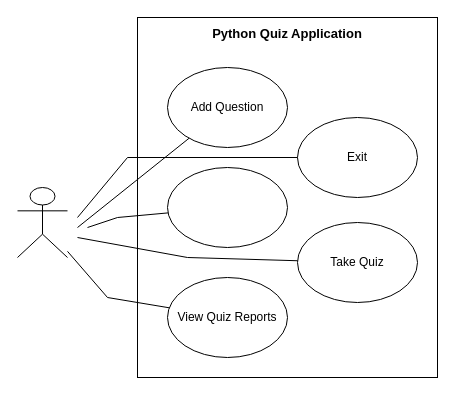
Image size: 455x395. Some labels were removed from this diagram. Here are the shapes that lost their labels. From the top down, the centre of each, then its label:
At [42,222]: "User".
At [227,207]: "View Developers".
